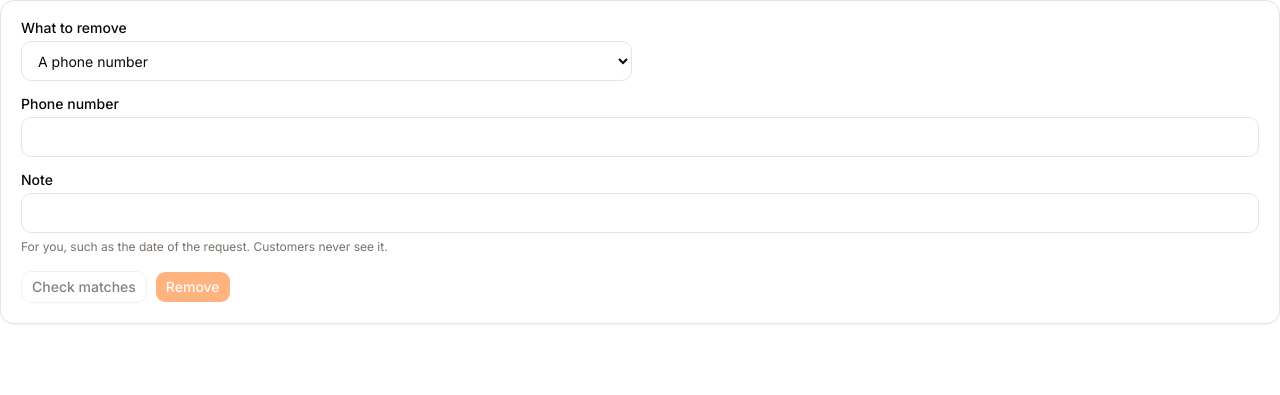
Test: RemovalForm › says what is wrong with a value the API refuses
The image size is (1280, 395).
Type "555" into the field labelled "Phone number".
click(640, 137); type("555")  # box [21,117,1259,157]
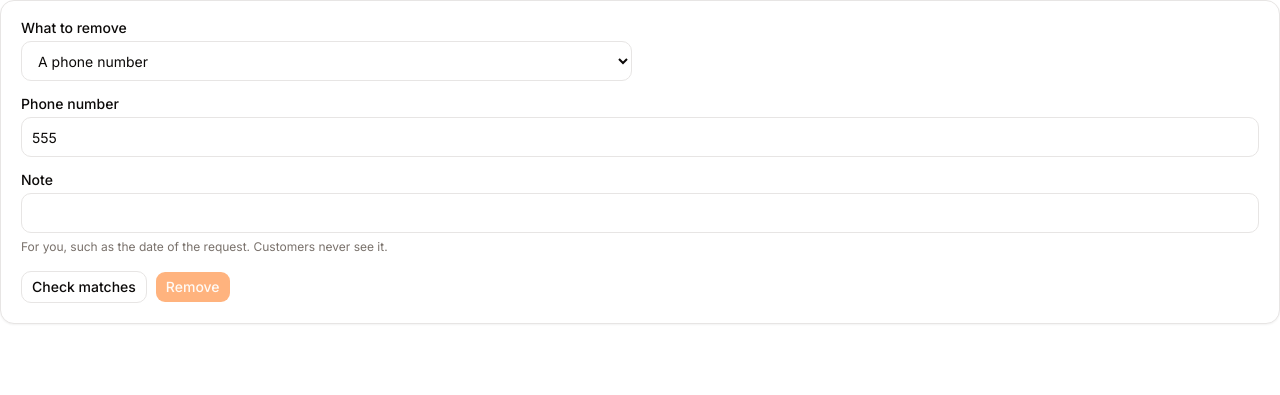
Click the button "Check matches".
click(84, 287)  # box [21,271,147,303]
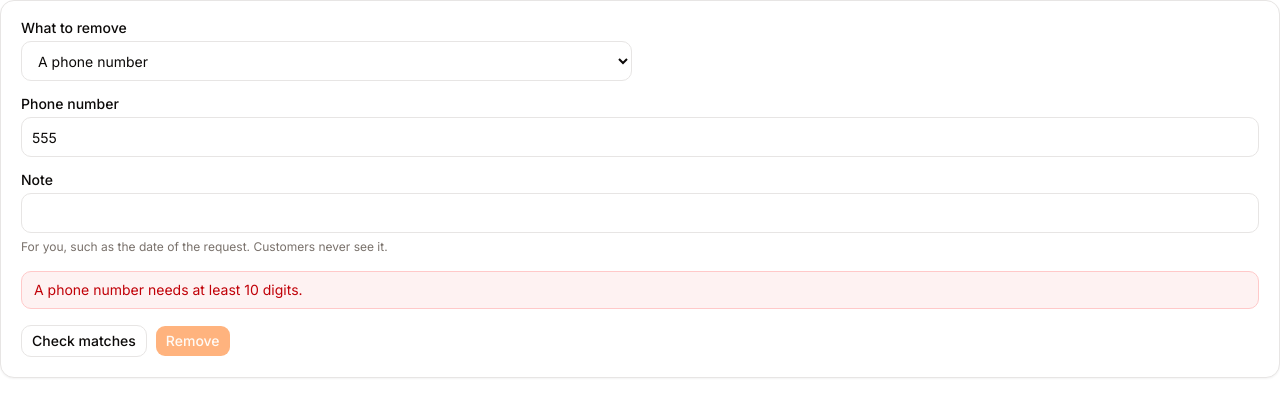
Now the message reads "A phone number needs at least 10 digits.", box [34,281,303,298]
